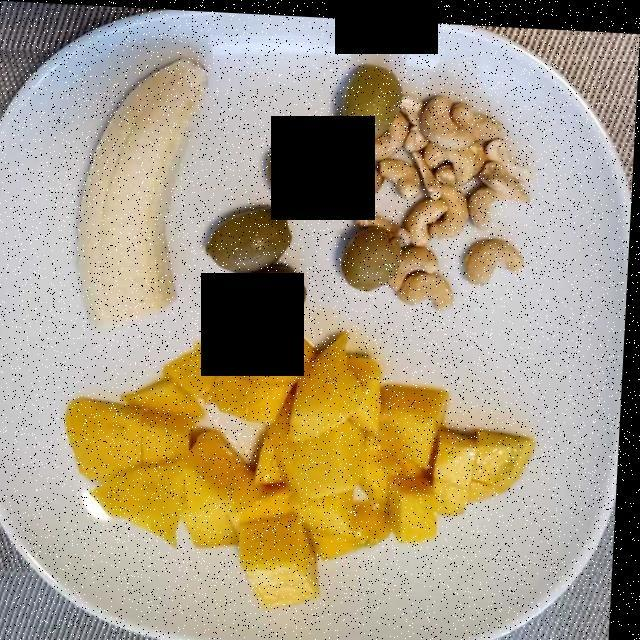banana: (66, 56, 208, 331)
cashew-nut: (329, 92, 518, 304)
green-olives: (216, 58, 410, 321)
mango: (85, 323, 535, 597)
